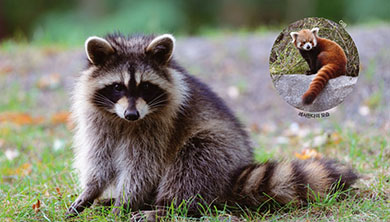raccoon: (55, 19, 249, 222)
